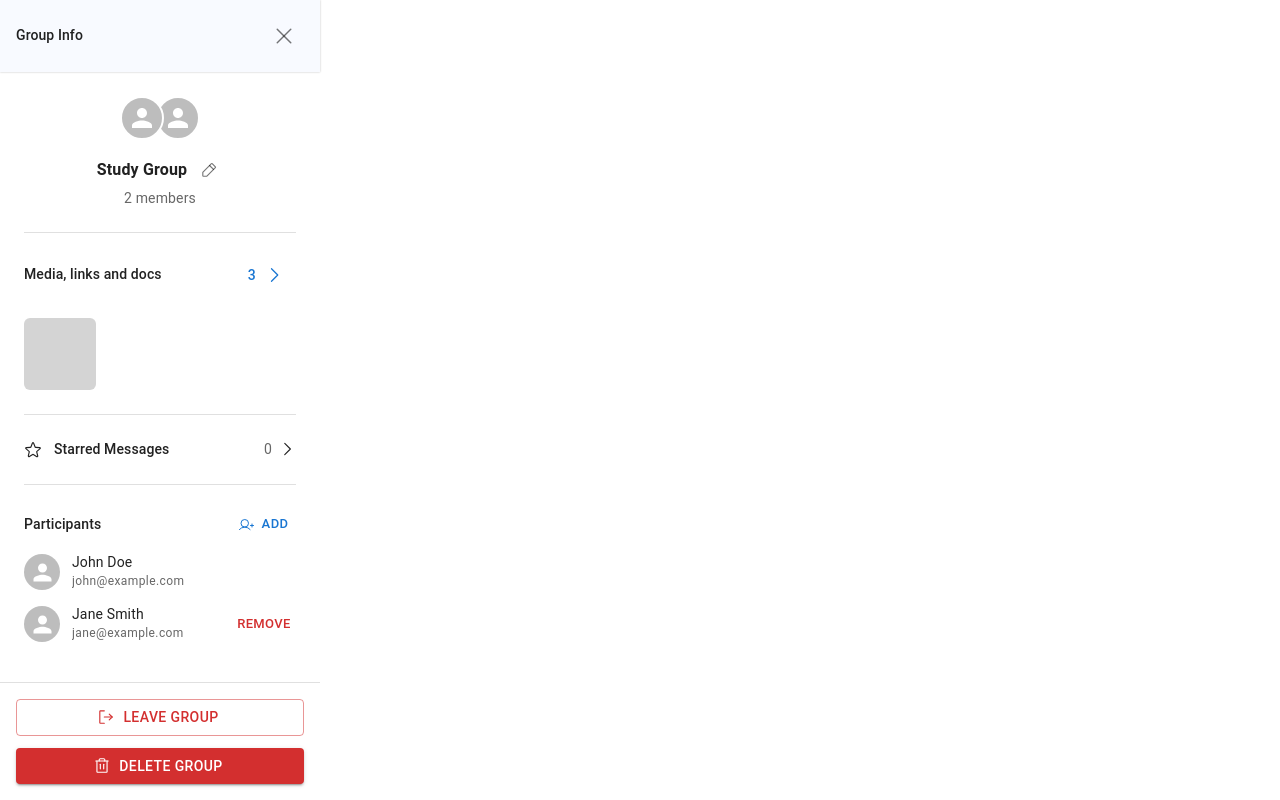
Test: GroupInfo › opens edit title dialog for group creator
Click the button named "edit group title" at (209, 170), box [195,156,223,184]
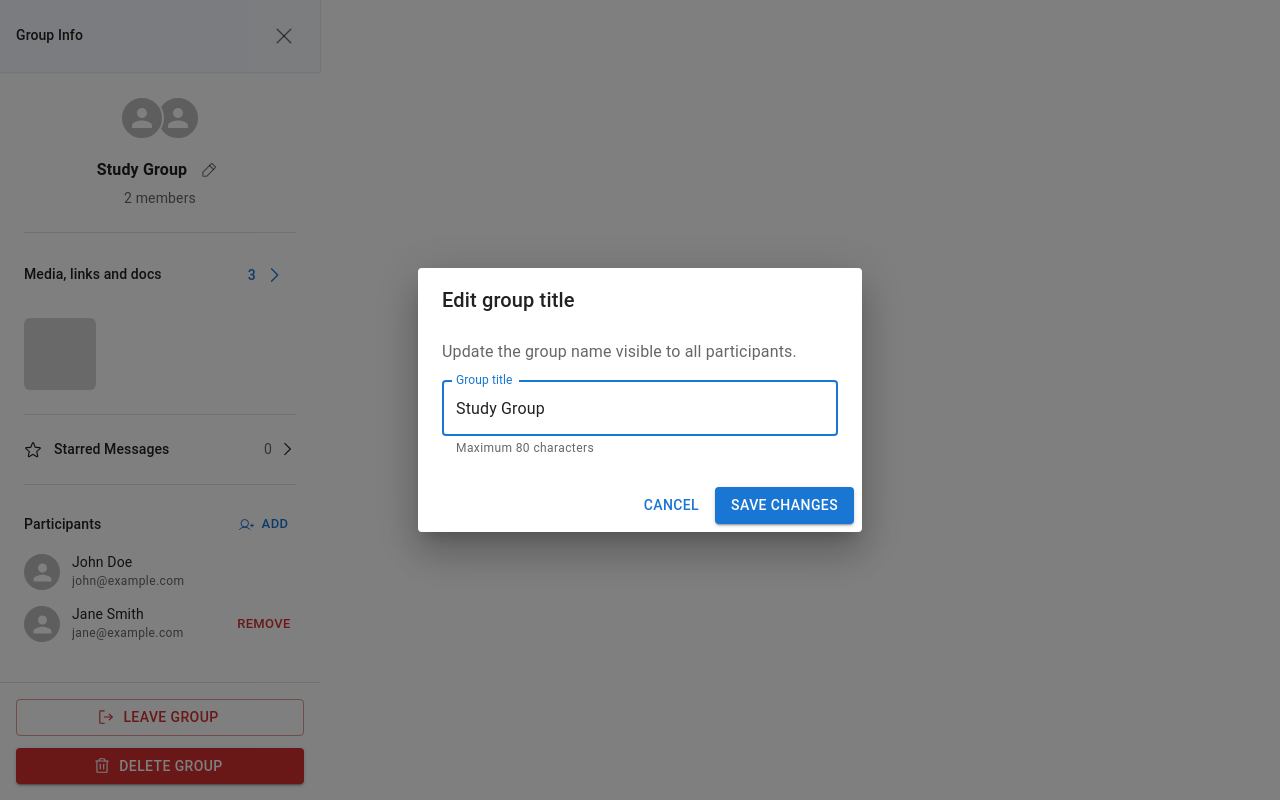
Now the heading "Edit group title" is shown, box [442,288,575,312]
Now the field labelled "Group title" holds "Study Group", box [442,380,838,436]
